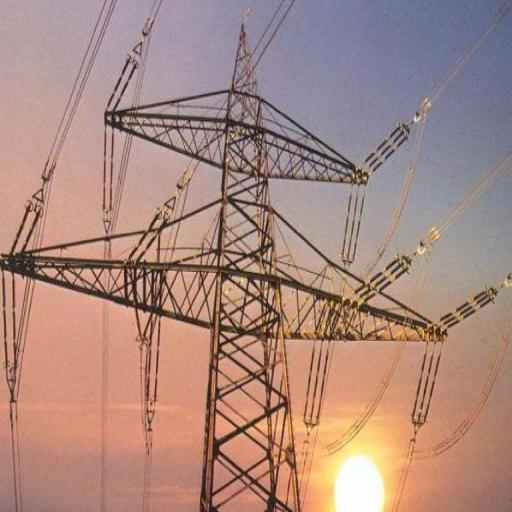ss_2: (0, 21, 447, 511)
